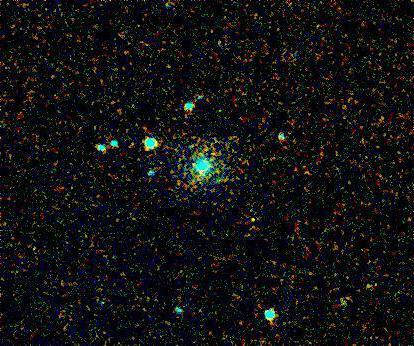star: (237, 204, 267, 234)
